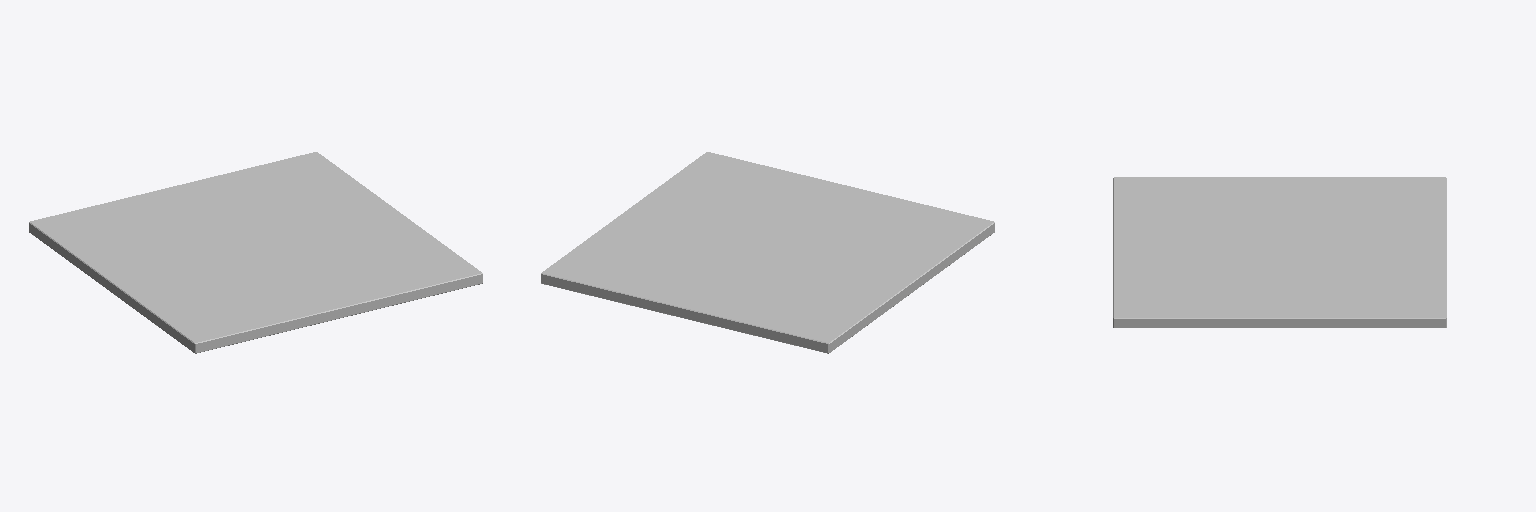
Rendered from square_coaster_01.obj.
3 views of the same model, side by side, from view 1: azimuth 30°, elevation 25°; view 2: azimuth 150°, elevation 25°; view 3: azimuth 270°, elevation 25° (orthographic).
Visible parts, largest first — view 1: square_coaster_01_Coaster1_Plane.011; view 2: square_coaster_01_Coaster1_Plane.011; view 3: square_coaster_01_Coaster1_Plane.011.
Boxes of the visible parts, x1,y1,x2,y2 form: square_coaster_01_Coaster1_Plane.011: [29, 152, 482, 353]; square_coaster_01_Coaster1_Plane.011: [541, 152, 994, 353]; square_coaster_01_Coaster1_Plane.011: [1113, 177, 1446, 327].
Bounding box in the file's own units: 0.0771 × 0.0044 × 0.0771.